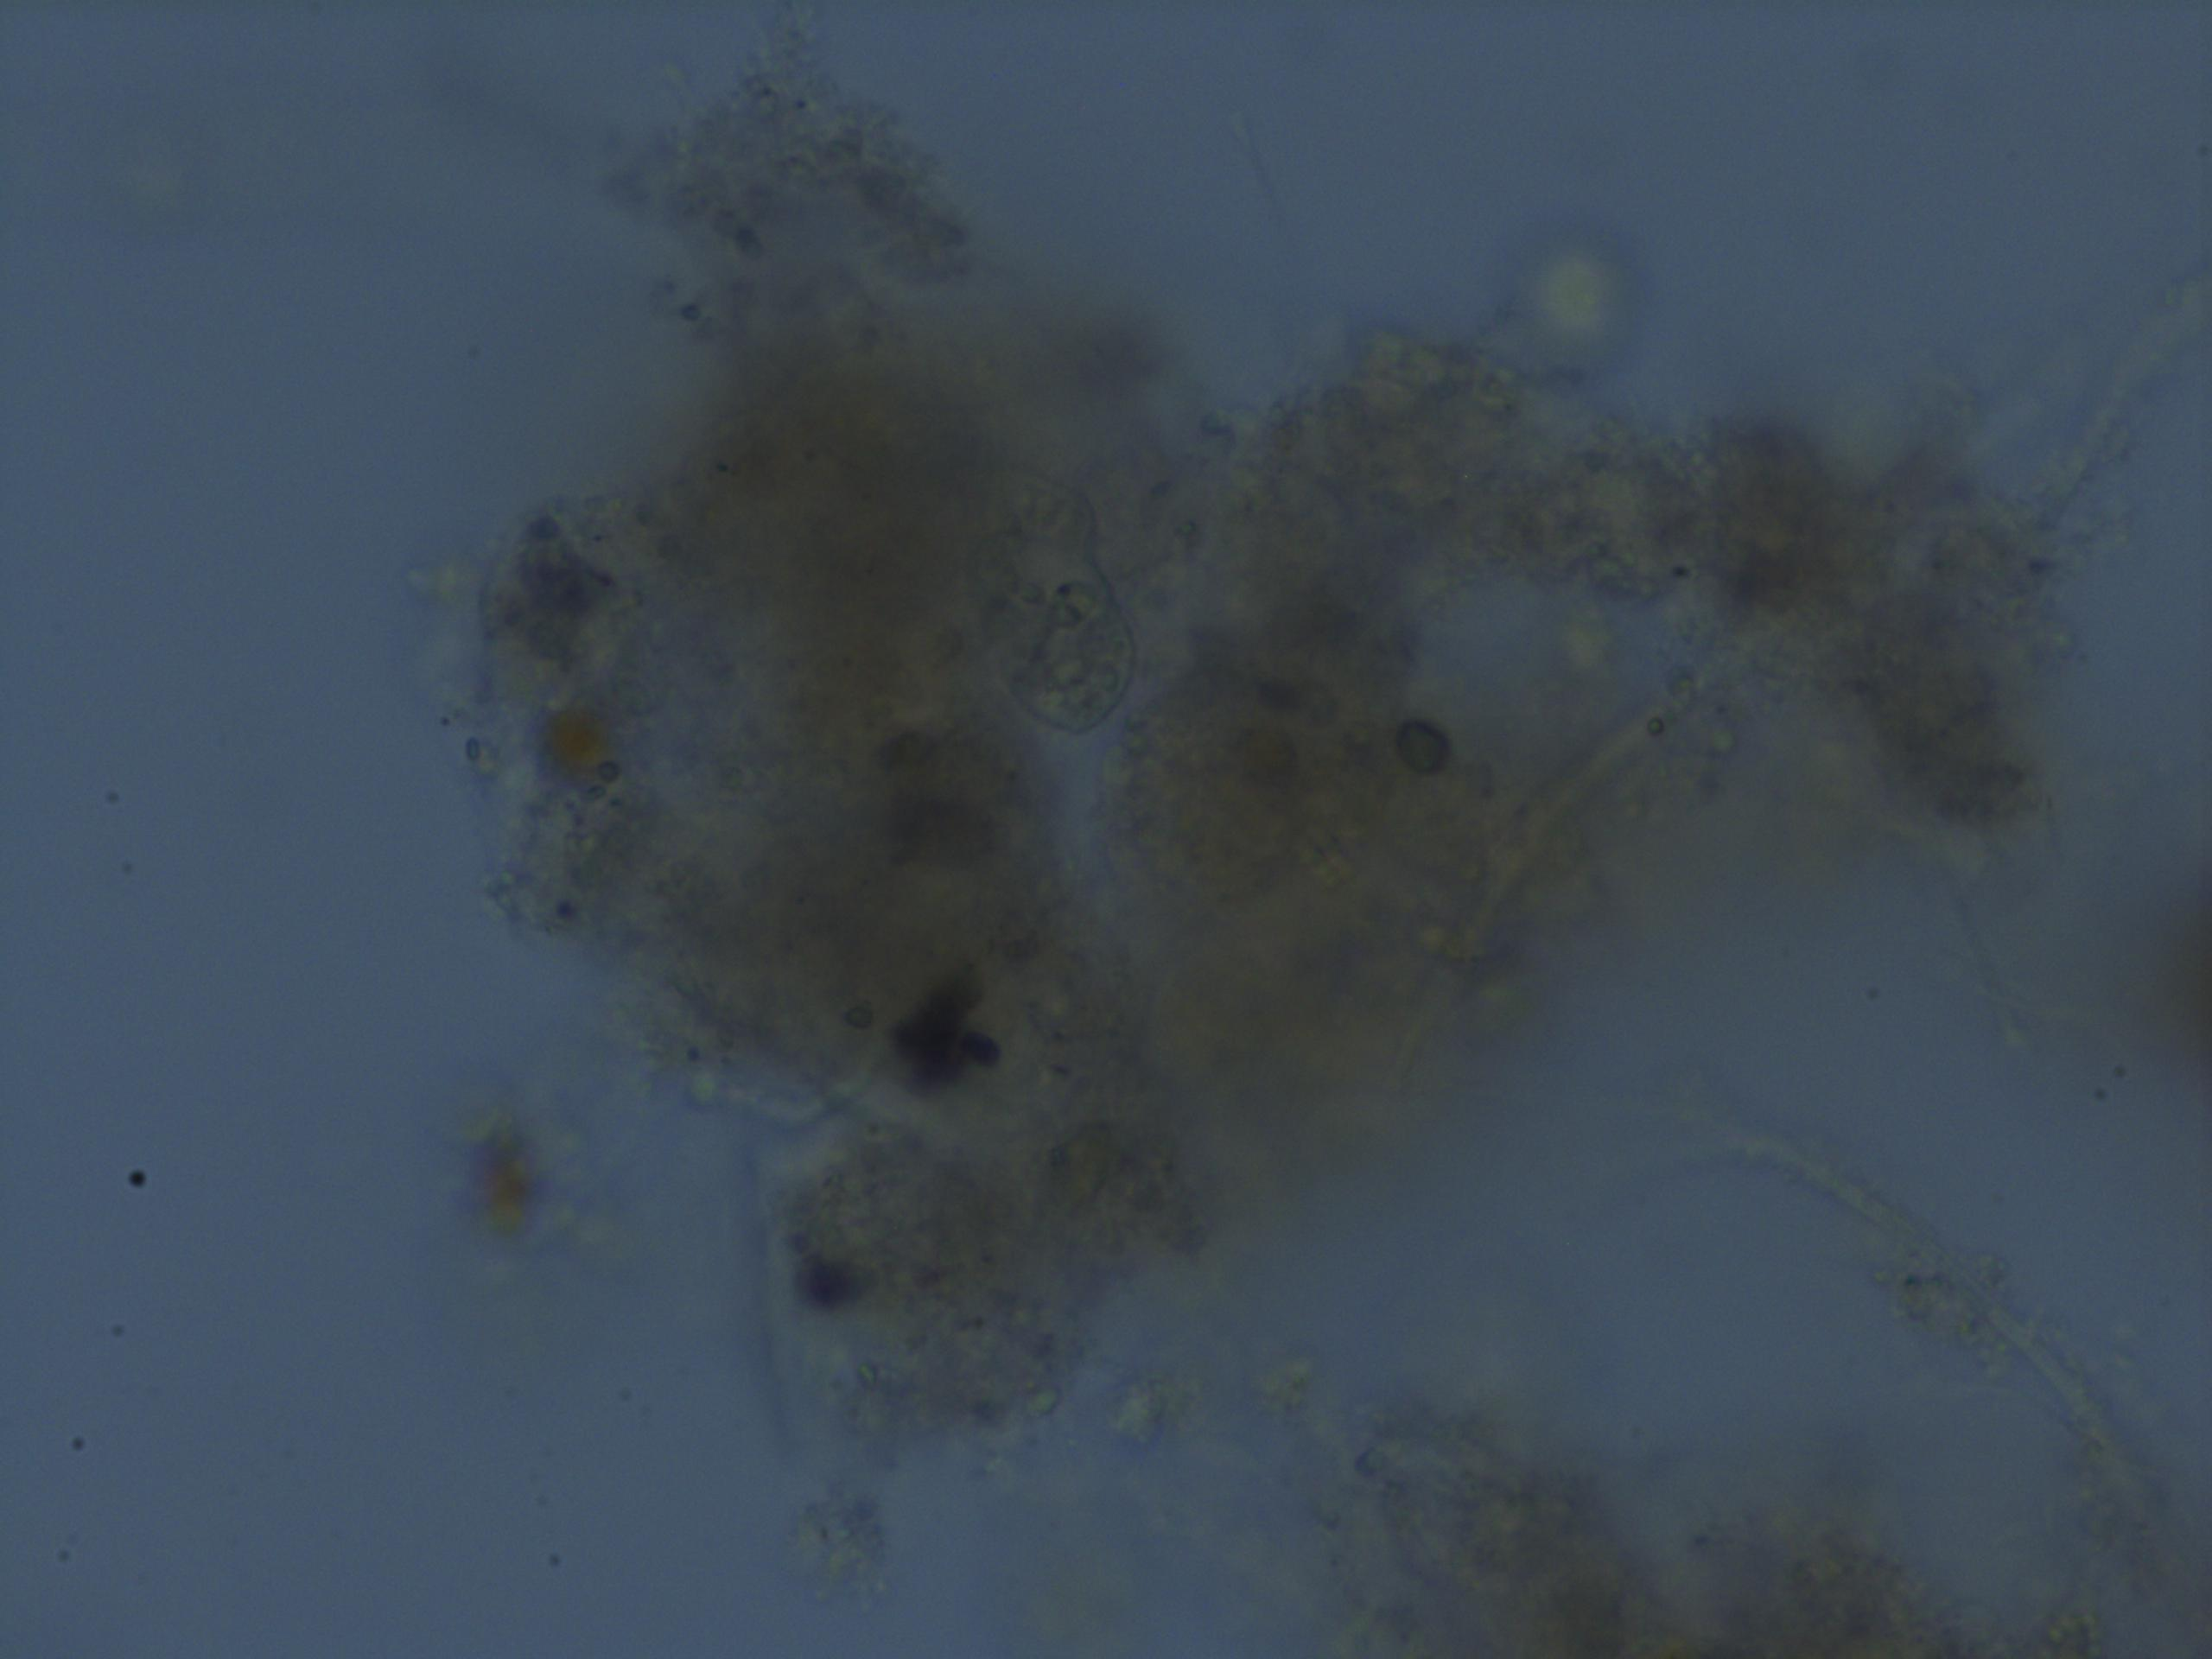filament: (1453, 234, 2212, 969), (1646, 1096, 2212, 1642)
